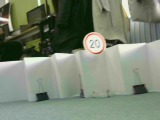speed_20: (83, 32, 106, 55)
